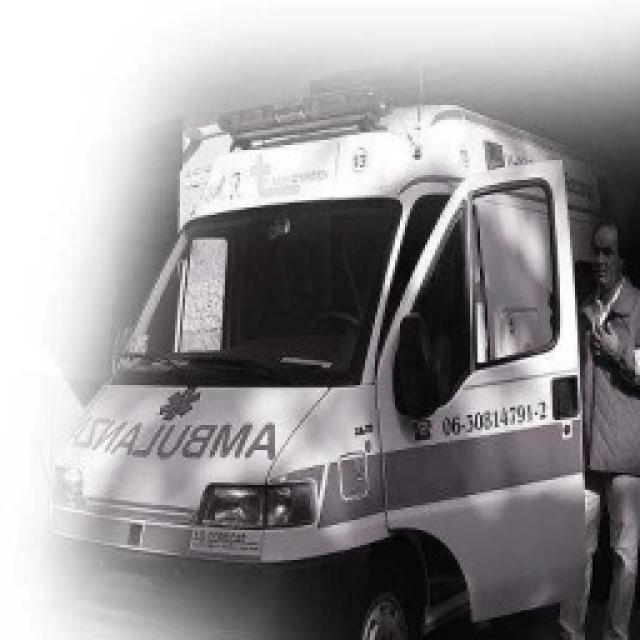ambulance: (12, 110, 600, 630), (582, 210, 640, 635)
